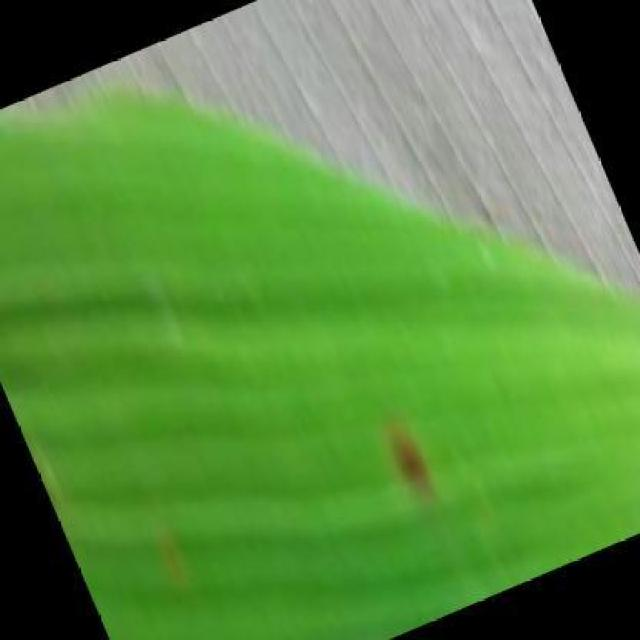Leaf_Blast: (358, 396, 458, 518), (148, 523, 203, 589)
